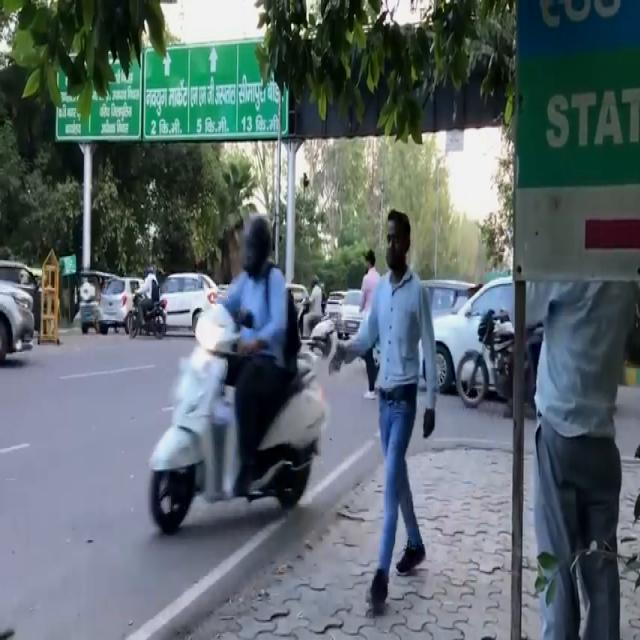MOTORCYCLE: (151, 288, 316, 540), (128, 292, 167, 342)
